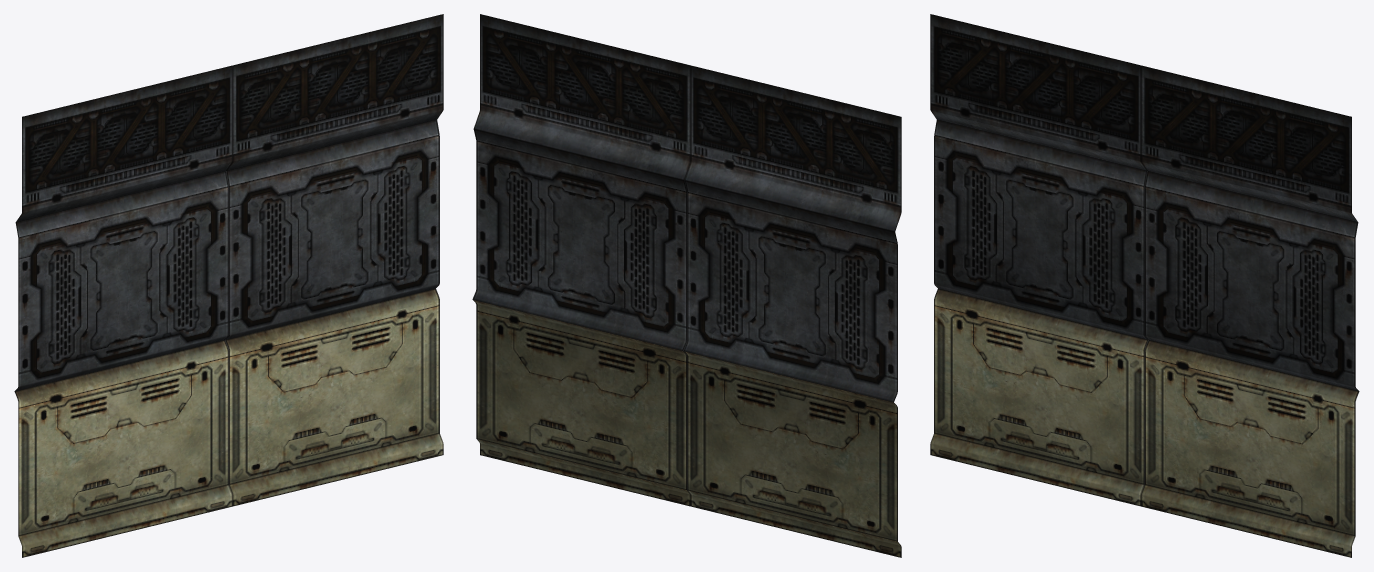
File: living_area_flat02.dae
The picture shows the model from 3 angles, left to right: view 1: azimuth 30°, elevation 25°; view 2: azimuth 150°, elevation 25°; view 3: azimuth 330°, elevation 25°; orthographic projection.
Parts seen in each view (by area): view 1: pPlane2; view 2: pPlane2; view 3: pPlane2.
Part boxes in pixels (x1,y1,x2,y2): pPlane2: (14,14,443,557); pPlane2: (472,14,901,557); pPlane2: (930,14,1359,557).
Size of the model in its own units: 4 by 4 by 0.125.
